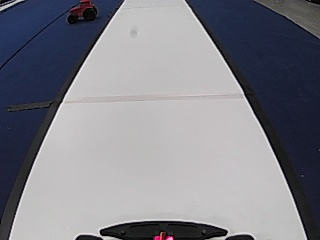Tracktor: (65, 0, 97, 26)
